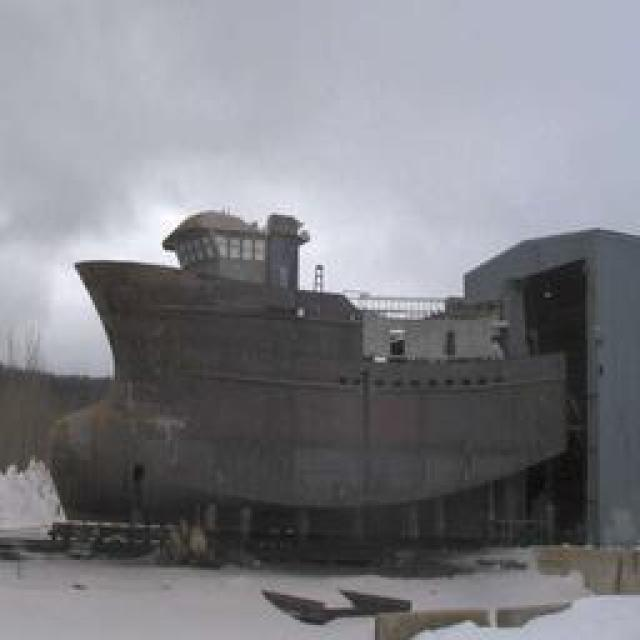Ship: (30, 192, 592, 559)
